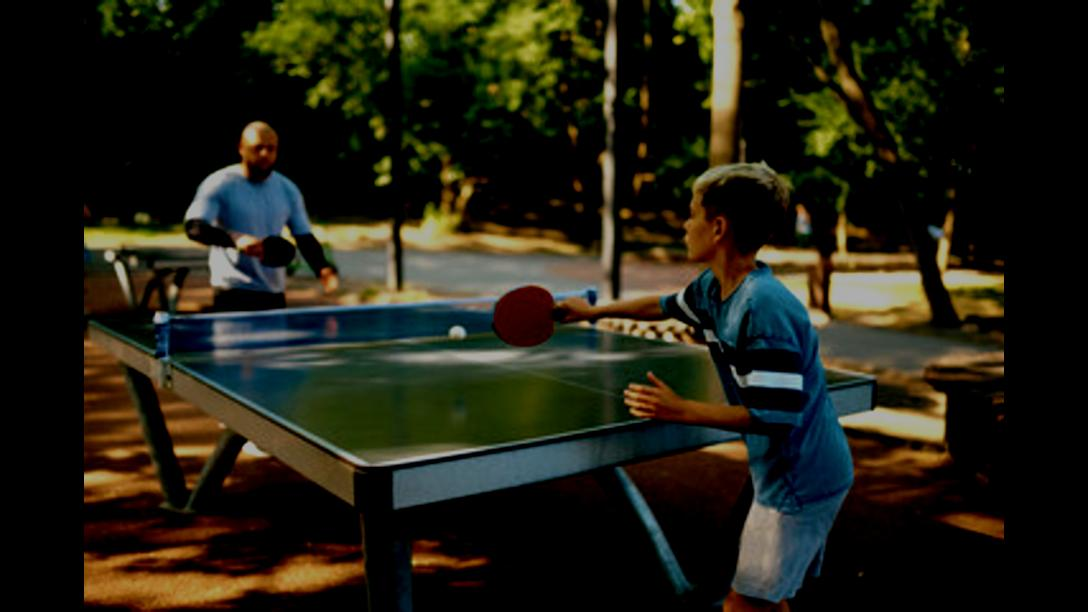Table-Tennis-Ball: (449, 324, 465, 339)
